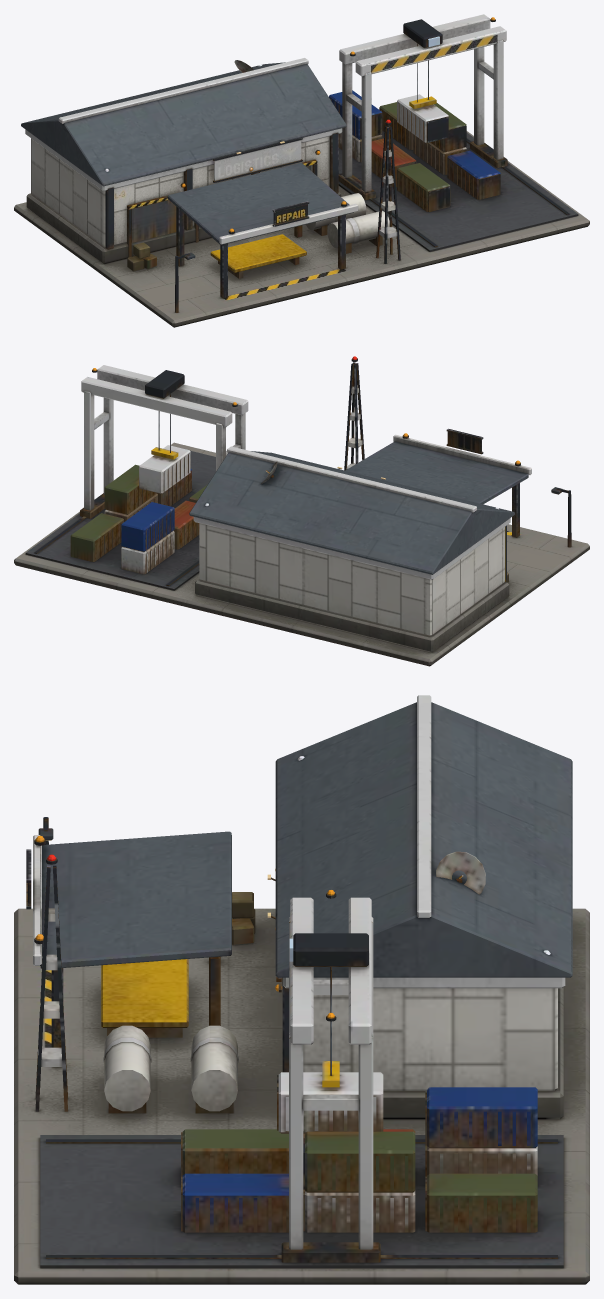
File: lgst.allies.glb
3 views of the same model, one above another, from view 1: azimuth 30°, elevation 25°; view 2: azimuth 150°, elevation 25°; view 3: azimuth 270°, elevation 25° (orthographic). The views are drawn at different scales.
Visible parts, largest first — view 1: root_mesh, gantry_mesh, trolley_mesh; view 2: root_mesh, gantry_mesh, trolley_mesh; view 3: root_mesh, gantry_mesh, trolley_mesh.
Boxes of the visible parts, x1,y1,x2,y2 form: root_mesh: [14, 58, 589, 327]; gantry_mesh: [338, 14, 507, 200]; trolley_mesh: [397, 19, 448, 143]; root_mesh: [14, 356, 589, 666]; gantry_mesh: [80, 365, 248, 518]; trolley_mesh: [139, 370, 190, 493]; root_mesh: [14, 695, 589, 1284]; gantry_mesh: [281, 890, 380, 1262]; trolley_mesh: [277, 933, 383, 1133].
Bounding box in the file's own units: 2.98 × 1.05 × 1.98.
1 material, 1 textured.
